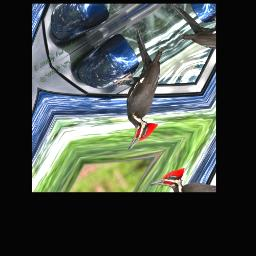Woodpecker: (74, 18, 198, 151)
